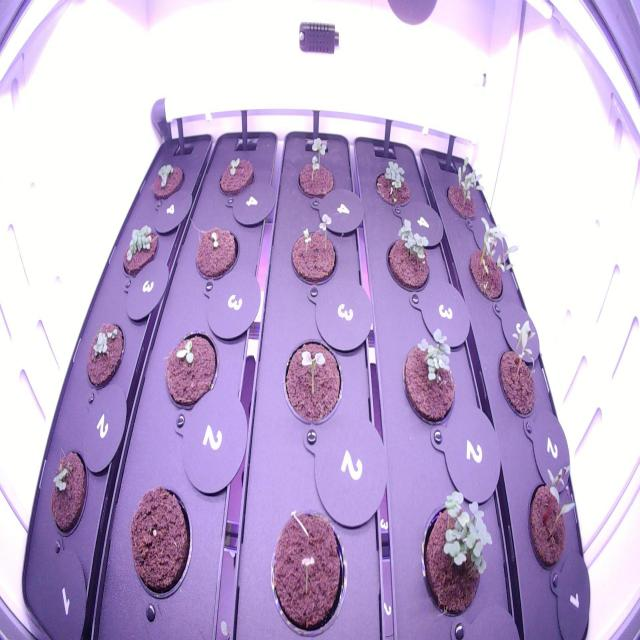germination: (411, 478, 496, 632), (261, 500, 352, 638), (273, 330, 351, 437), (523, 452, 583, 576), (400, 321, 459, 438), (492, 308, 544, 432), (461, 210, 523, 313), (160, 323, 222, 416), (284, 204, 341, 300), (43, 444, 92, 547), (379, 213, 436, 300), (79, 316, 131, 399), (439, 147, 490, 229), (188, 218, 244, 289), (367, 149, 416, 219), (117, 216, 164, 285), (292, 133, 337, 205), (213, 150, 260, 200), (146, 151, 186, 209)
pod: (124, 478, 196, 606)
